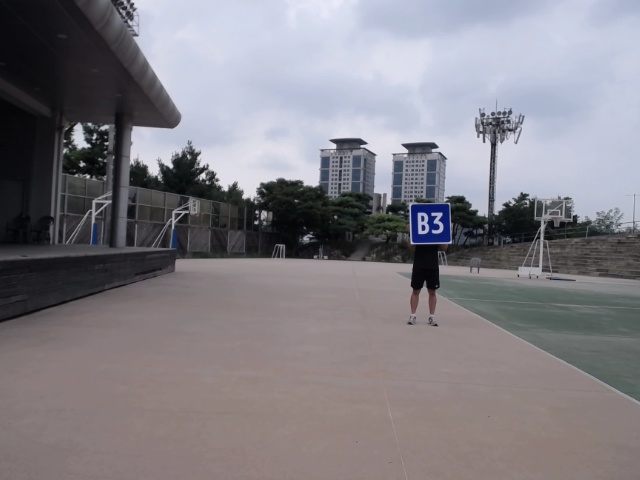delivery_b3: (407, 200, 454, 246)
